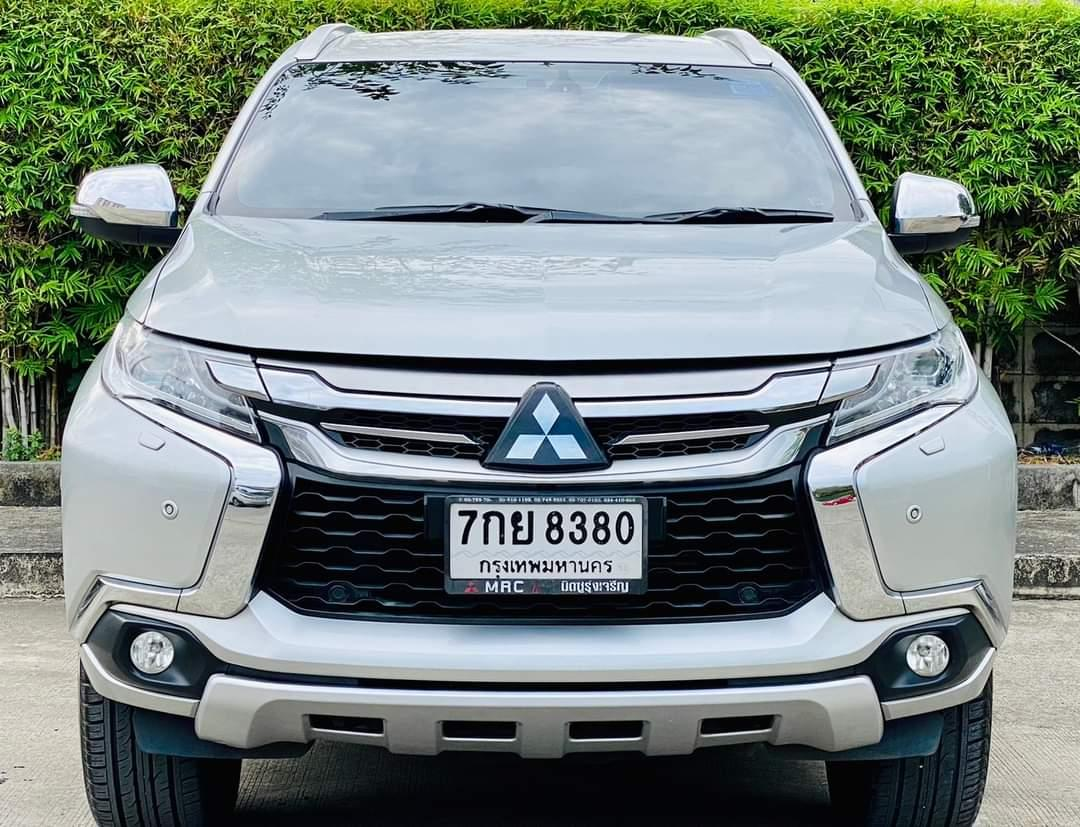license-plate: (444, 491, 654, 608)
